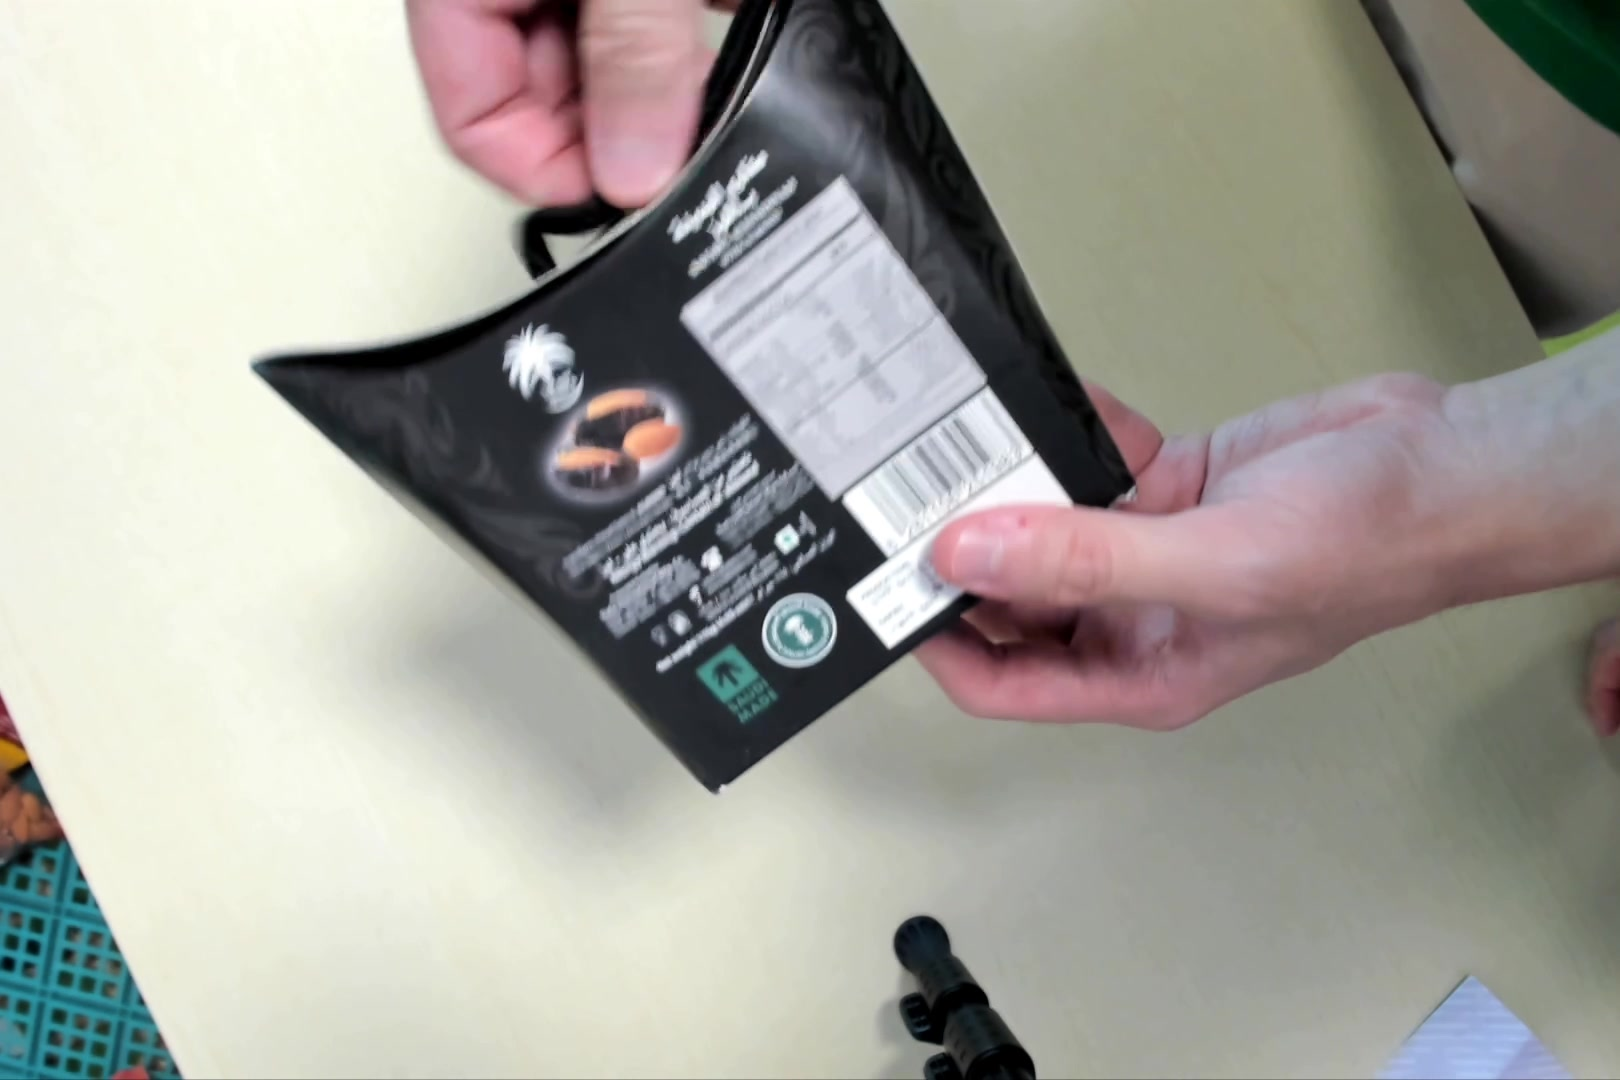DriedFood_100-199g_NonHalal_NonHealthy: (269, 1, 1135, 802)
